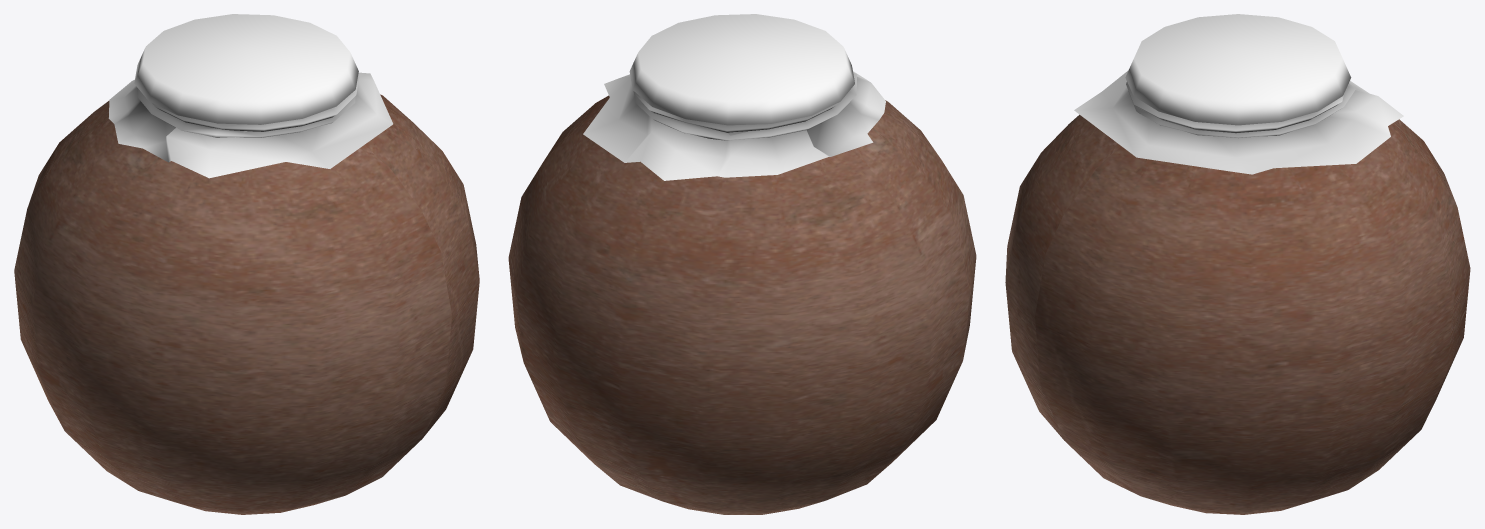
Rendered from projectile_pot.fbx.
3 views of the same model, side by side, from view 1: azimuth 30°, elevation 25°; view 2: azimuth 150°, elevation 25°; view 3: azimuth 270°, elevation 25° (orthographic).
Visible parts, largest first — view 1: projectile_pot.0, projectile_pot.1; view 2: projectile_pot.0, projectile_pot.1; view 3: projectile_pot.0, projectile_pot.1.
Boxes of the visible parts, x1,y1,x2,y2 form: projectile_pot.0: (14,94,479,514); projectile_pot.1: (108,14,393,178); projectile_pot.0: (508,95,976,514); projectile_pot.1: (583,14,885,180); projectile_pot.0: (1005,114,1470,514); projectile_pot.1: (1074,14,1403,174).
Bounding box in the file's own units: 0.3679 × 0.367 × 0.369.
Materials: 2 (1 with a texture image).
